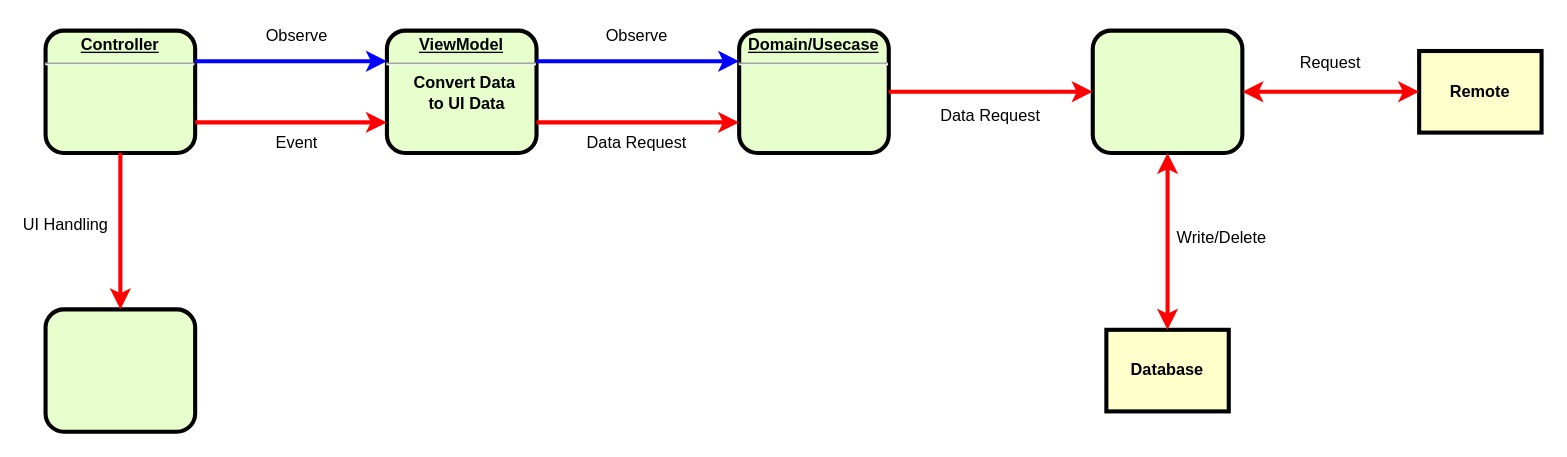
Some shapes in this 1567 by 457 pixel diagram are drawn without their labels. The centre of each missing label's shape, as x and y in pixels:
"Repository" goes at [1167,91].
"View Storyboard Xib Custom View" goes at [120,370].
